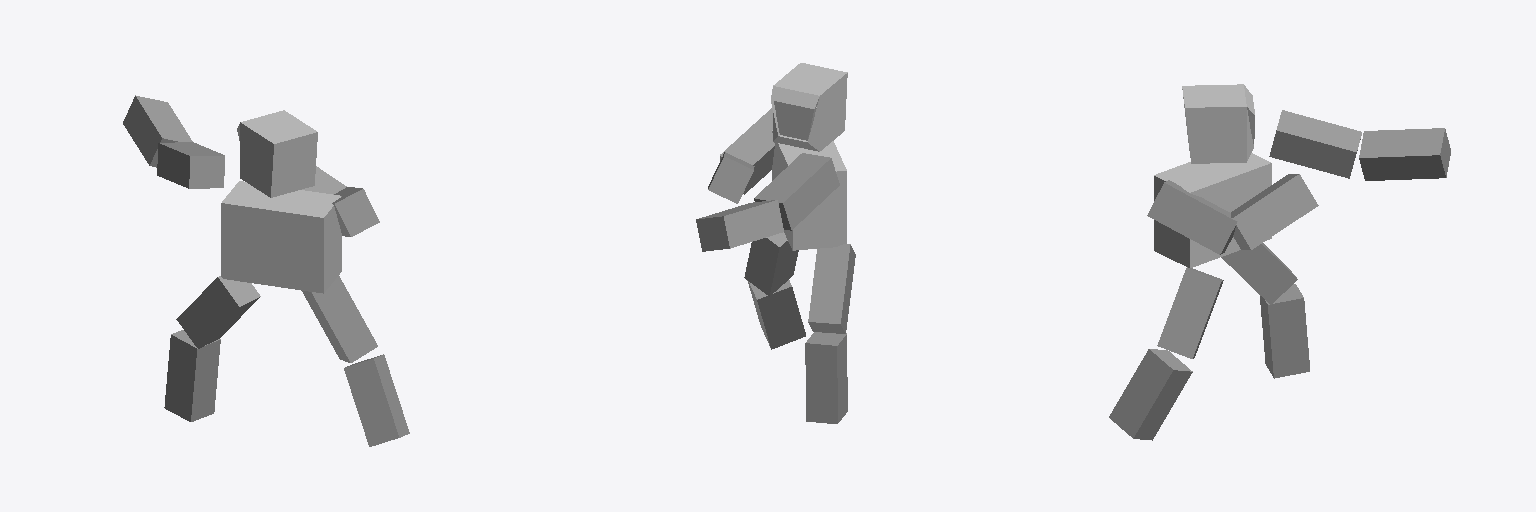
The model's file is nsoldier.obj.
The picture shows the model from 3 angles: view 1: azimuth 30°, elevation 25°; view 2: azimuth 150°, elevation 25°; view 3: azimuth 270°, elevation 25°; orthographic projection.
Parts seen in each view (by area): view 1: Cube.027, Cube.028, Cube.023, Cube.026, Cube.024, Cube.025, Cube.029, Cube.030, Cube.032, Cube.031; view 2: Cube.028, Cube.023, Cube.027, Cube.029, Cube.024, Cube.030, Cube.026, Cube.025, Cube.032, Cube.031; view 3: Cube.027, Cube.028, Cube.030, Cube.026, Cube.029, Cube.031, Cube.023, Cube.032, Cube.025, Cube.024.
Boxes of the visible parts, x1=… form: Cube.027: x1=221, y1=181, x2=341, y2=293; Cube.028: x1=237, y1=110, x2=317, y2=197; Cube.023: x1=164, y1=330, x2=220, y2=421; Cube.026: x1=344, y1=354, x2=409, y2=446; Cube.024: x1=176, y1=276, x2=260, y2=348; Cube.025: x1=301, y1=276, x2=377, y2=362; Cube.029: x1=157, y1=142, x2=224, y2=188; Cube.030: x1=123, y1=95, x2=192, y2=167; Cube.032: x1=332, y1=187, x2=379, y2=236; Cube.031: x1=302, y1=166, x2=346, y2=194; Cube.028: x1=771, y1=63, x2=847, y2=151; Cube.023: x1=805, y1=332, x2=847, y2=423; Cube.027: x1=772, y1=130, x2=846, y2=250; Cube.029: x1=754, y1=153, x2=839, y2=230; Cube.024: x1=808, y1=244, x2=855, y2=333; Cube.030: x1=696, y1=200, x2=783, y2=251; Cube.026: x1=747, y1=280, x2=805, y2=349; Cube.025: x1=744, y1=232, x2=798, y2=296; Cube.032: x1=720, y1=108, x2=774, y2=194; Cube.031: x1=708, y1=152, x2=754, y2=203; Cube.027: x1=1154, y1=153, x2=1271, y2=267; Cube.028: x1=1182, y1=84, x2=1254, y2=163; Cube.030: x1=1359, y1=128, x2=1450, y2=180; Cube.026: x1=1109, y1=349, x2=1192, y2=440; Cube.029: x1=1269, y1=110, x2=1361, y2=178; Cube.031: x1=1231, y1=174, x2=1318, y2=249; Cube.023: x1=1260, y1=284, x2=1309, y2=378; Cube.032: x1=1147, y1=180, x2=1237, y2=254; Cube.025: x1=1157, y1=267, x2=1223, y2=358; Cube.024: x1=1221, y1=243, x2=1297, y2=304.
Size of the model in its own units: 1.06 by 1.95 by 1.95.